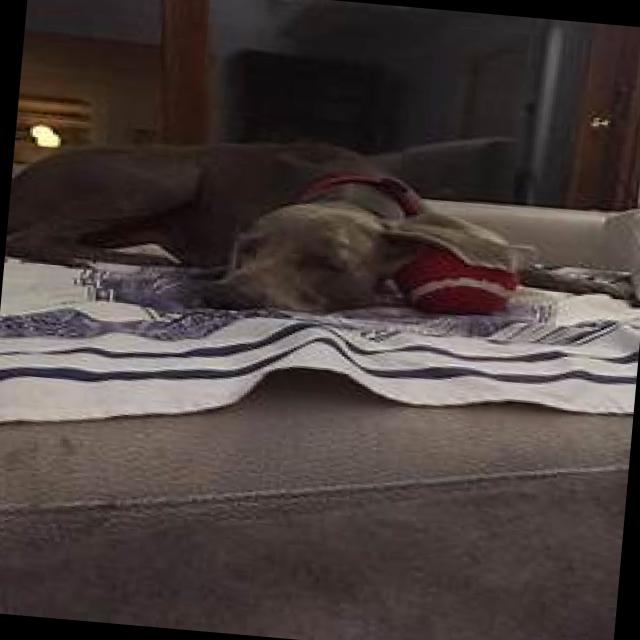animal: (0, 111, 640, 358)
